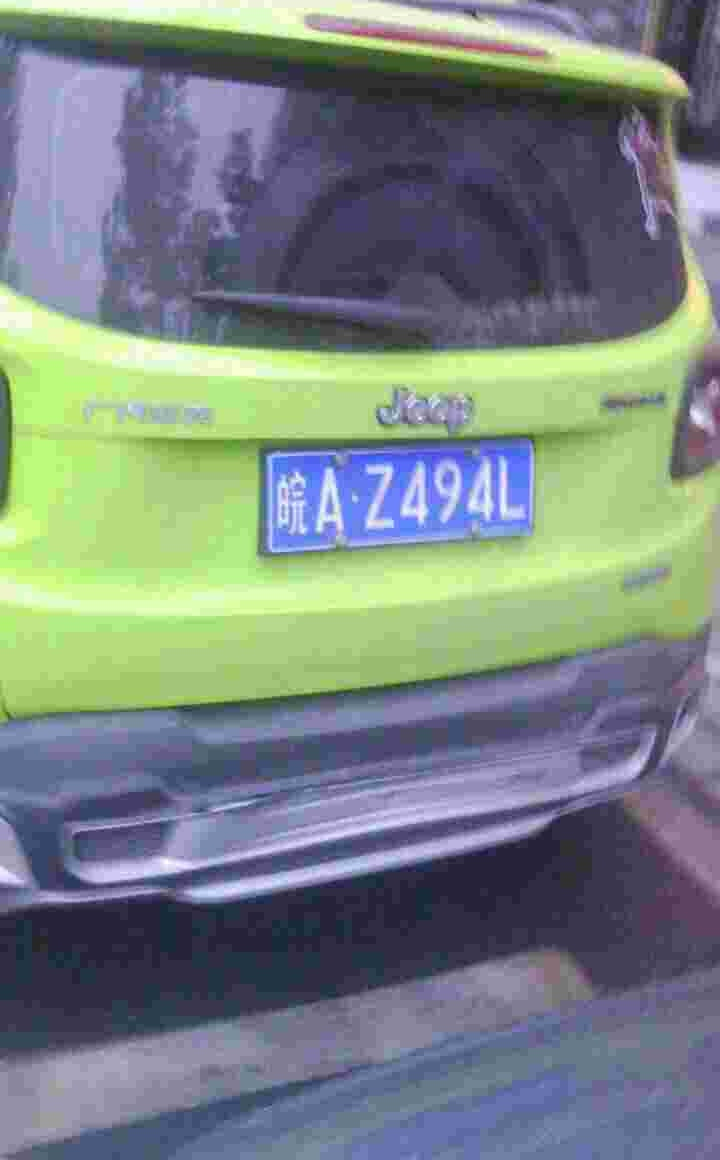license_plate: (253, 448, 541, 548)
